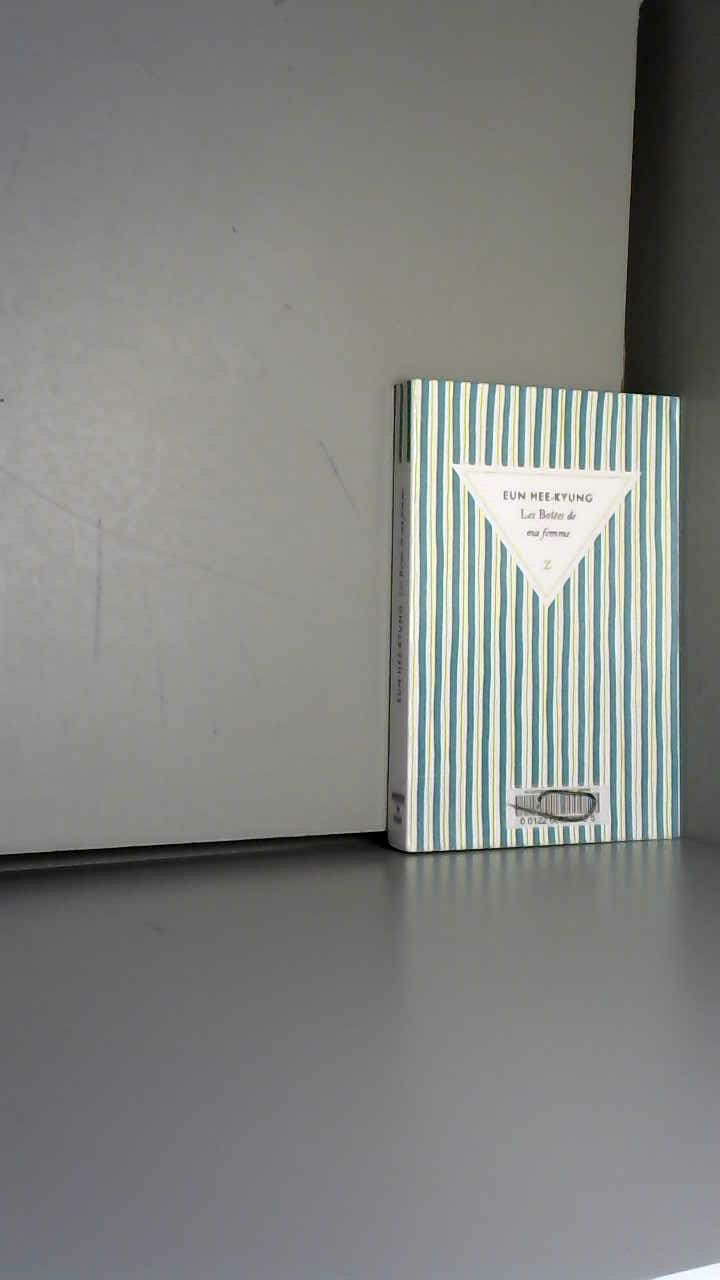book: (360, 350, 720, 938)
